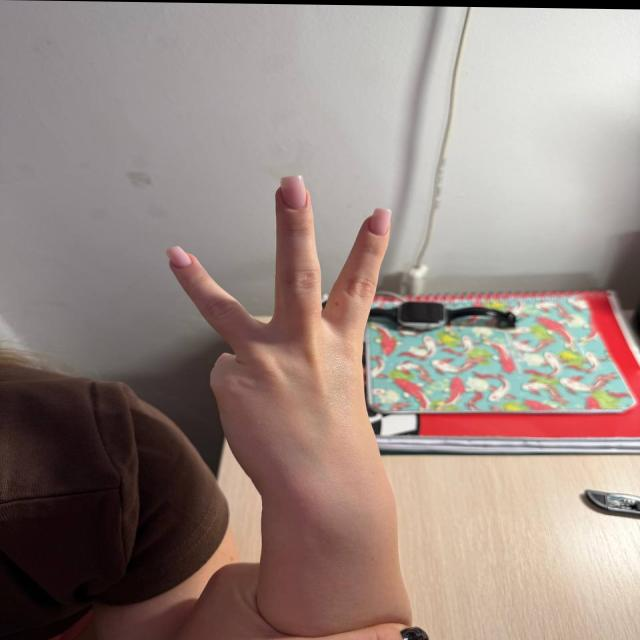m: (142, 154, 422, 463)
